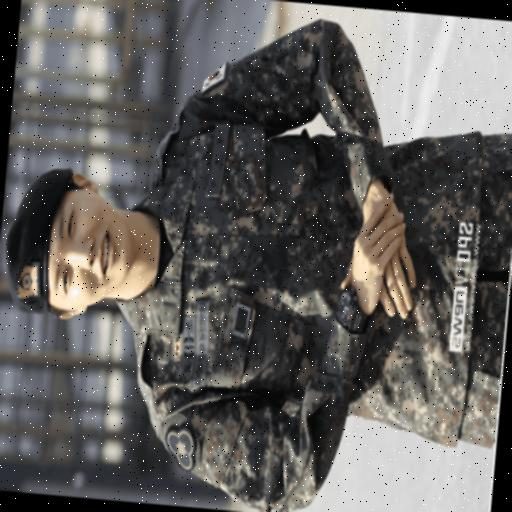korea army: (87, 5, 512, 512)
